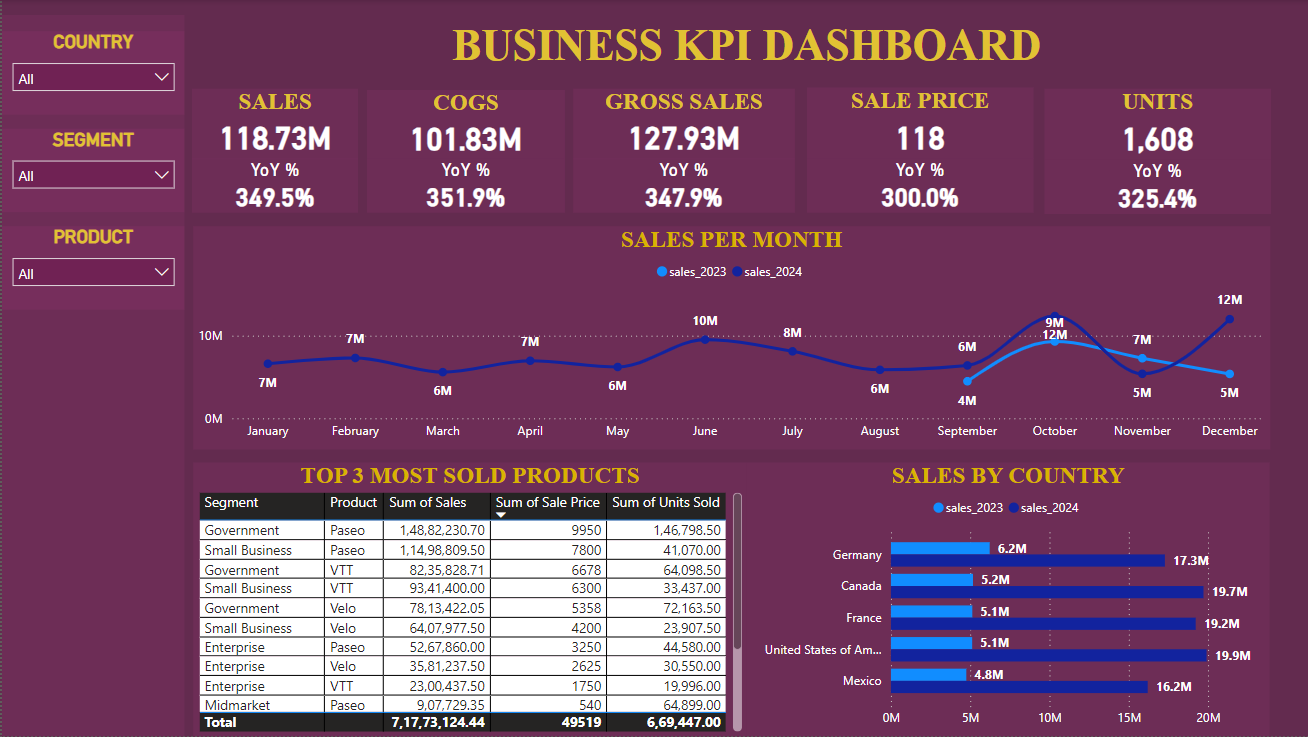

This screenshot's page, from the dashboard's own definition file:
{"tool":"powerbi","page":{"name":"Page 1","canvas":[1280,720],"ordinal":0},"visuals":[{"type":"shape","box":[0,14.7,178.5,705.6],"z":0},{"type":"textbox","box":[187.1,14.7,1082.2,70.9],"z":1000},{"type":"card","title":"SALES","fields":{"Values":["Sum(financial_data.  Sales )"]},"box":[185.9,86.8,162.6,68.5],"z":2000},{"type":"card","title":"YoY %","fields":{"Values":["financial_data.  Sales  YoY%"]},"box":[185.9,155.3,162.6,52.6],"z":3000},{"type":"card","title":"COGS","fields":{"Values":["Sum(financial_data. COGS )"]},"box":[357.1,88,193.2,67.3],"z":4000},{"type":"card","title":"YoY %","fields":{"Values":["financial_data. COGS  YoY%"]},"box":[357.1,155.3,193.2,52.6],"z":5000},{"type":"card","title":"GROSS SALES","fields":{"Values":["Sum(financial_data. Gross Sales )"]},"box":[558.8,86.8,216.4,68.5],"z":6000},{"type":"card","title":"YoY %","fields":{"Values":["financial_data. Gross Sales  YoY%"]},"box":[558.8,155.3,216.4,52.6],"z":7000},{"type":"card","title":"SALE PRICE","fields":{"Values":["Avg(financial_data. Sale Price )"]},"box":[787.5,85.6,221.3,69.7],"z":8000},{"type":"card","title":"YoY %","fields":{"Values":["financial_data. Sale Price  YoY%"]},"box":[787.5,155.3,221.3,52.6],"z":9000},{"type":"card","title":"UNITS","fields":{"Values":["Avg(financial_data. Units Sold )"]},"box":[1019.8,86.8,221.3,69.7],"z":10000},{"type":"card","title":"YoY %","fields":{"Values":["financial_data. Units Sold  YoY%"]},"box":[1019.6,156.5,221.3,52.6],"z":11000},{"type":"lineChart","title":"SALES PER MONTH","fields":{"Y":["financial_data.sales_2023","financial_data.sales_2024"],"Category":["financial_data. Month Name "]},"box":[186.7,220.9,1053.4,218.1],"z":12000},{"type":"tableEx","title":"TOP 3 MOST SOLD PRODUCTS","fields":{"Values":["financial_data.Segment","financial_data. Product ","Sum(financial_data.  Sales )","Sum(financial_data. Sale Price )","Sum(financial_data. Units Sold )"]},"box":[187.1,452.4,541.7,267.8],"z":13000},{"type":"clusteredBarChart","title":"SALES BY COUNTRY","fields":{"Category":["financial_data.Country"],"Y":["financial_data.sales_2023","financial_data.sales_2024"]},"box":[729,452,511,268],"z":14000},{"type":"slicer","title":"COUNTRY","fields":{"Values":["financial_data.Country"]},"box":[0,30.6,178.5,81.9],"z":15000},{"type":"slicer","title":"SEGMENT","fields":{"Values":["financial_data.Segment"]},"box":[0,126,178.5,81.9],"z":16000},{"type":"slicer","title":"PRODUCT","fields":{"Values":["financial_data. Product "]},"box":[0,221.3,178.5,81.9],"z":17000}]}

Visuals, with their boxes in screenshot pixels (x1, y1, x2, y2), scaled from the page's 1280x720 canvas onto the 1308x737 screenshot:
shape: {"x1": 0, "y1": 15, "x2": 182, "y2": 736}
textbox: {"x1": 191, "y1": 15, "x2": 1297, "y2": 88}
"SALES" card: {"x1": 190, "y1": 89, "x2": 356, "y2": 159}
"YoY %" card: {"x1": 190, "y1": 159, "x2": 356, "y2": 213}
"COGS" card: {"x1": 365, "y1": 90, "x2": 562, "y2": 159}
"YoY %" card: {"x1": 365, "y1": 159, "x2": 562, "y2": 213}
"GROSS SALES" card: {"x1": 571, "y1": 89, "x2": 792, "y2": 159}
"YoY %" card: {"x1": 571, "y1": 159, "x2": 792, "y2": 213}
"SALE PRICE" card: {"x1": 805, "y1": 88, "x2": 1031, "y2": 159}
"YoY %" card: {"x1": 805, "y1": 159, "x2": 1031, "y2": 213}
"UNITS" card: {"x1": 1042, "y1": 89, "x2": 1268, "y2": 160}
"YoY %" card: {"x1": 1042, "y1": 160, "x2": 1268, "y2": 214}
"SALES PER MONTH" lineChart: {"x1": 191, "y1": 226, "x2": 1267, "y2": 449}
"TOP 3 MOST SOLD PRODUCTS" tableEx: {"x1": 191, "y1": 463, "x2": 745, "y2": 736}
"SALES BY COUNTRY" clusteredBarChart: {"x1": 745, "y1": 463, "x2": 1267, "y2": 736}
"COUNTRY" slicer: {"x1": 0, "y1": 31, "x2": 182, "y2": 115}
"SEGMENT" slicer: {"x1": 0, "y1": 129, "x2": 182, "y2": 213}
"PRODUCT" slicer: {"x1": 0, "y1": 227, "x2": 182, "y2": 310}
